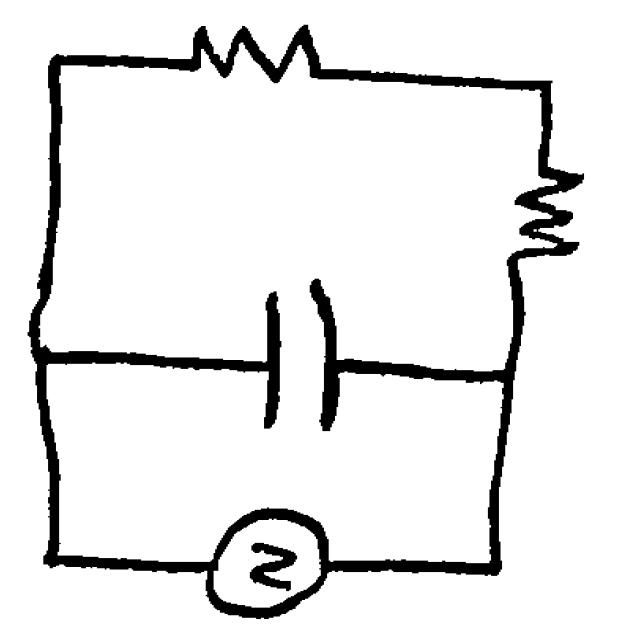capacitor: (238, 260, 363, 444), (184, 500, 352, 622)
resistor: (164, 17, 355, 95), (491, 145, 586, 271)
